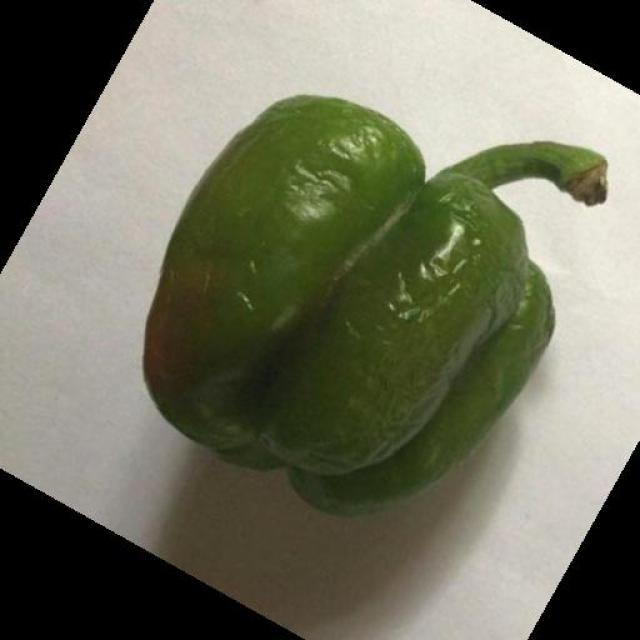Stale_Capsicum: (159, 58, 529, 498)
